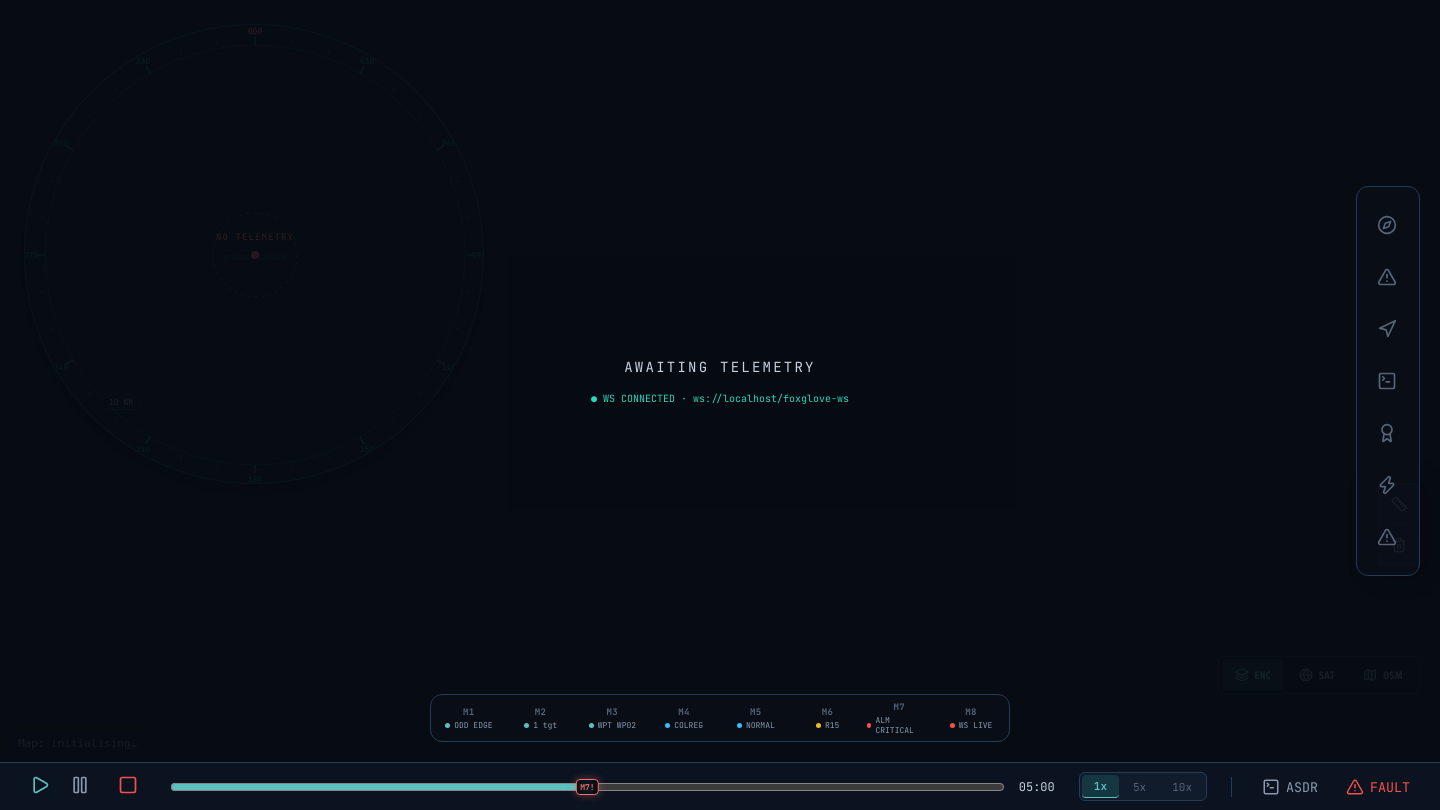
Test: SimulationMonitor › opens bottom module popover from avoidance decision module chips
This screenshot has width=1440, height=810.
Click the button with test id "right-tab-avoid": (1388, 329) [1366,307,1410,351]
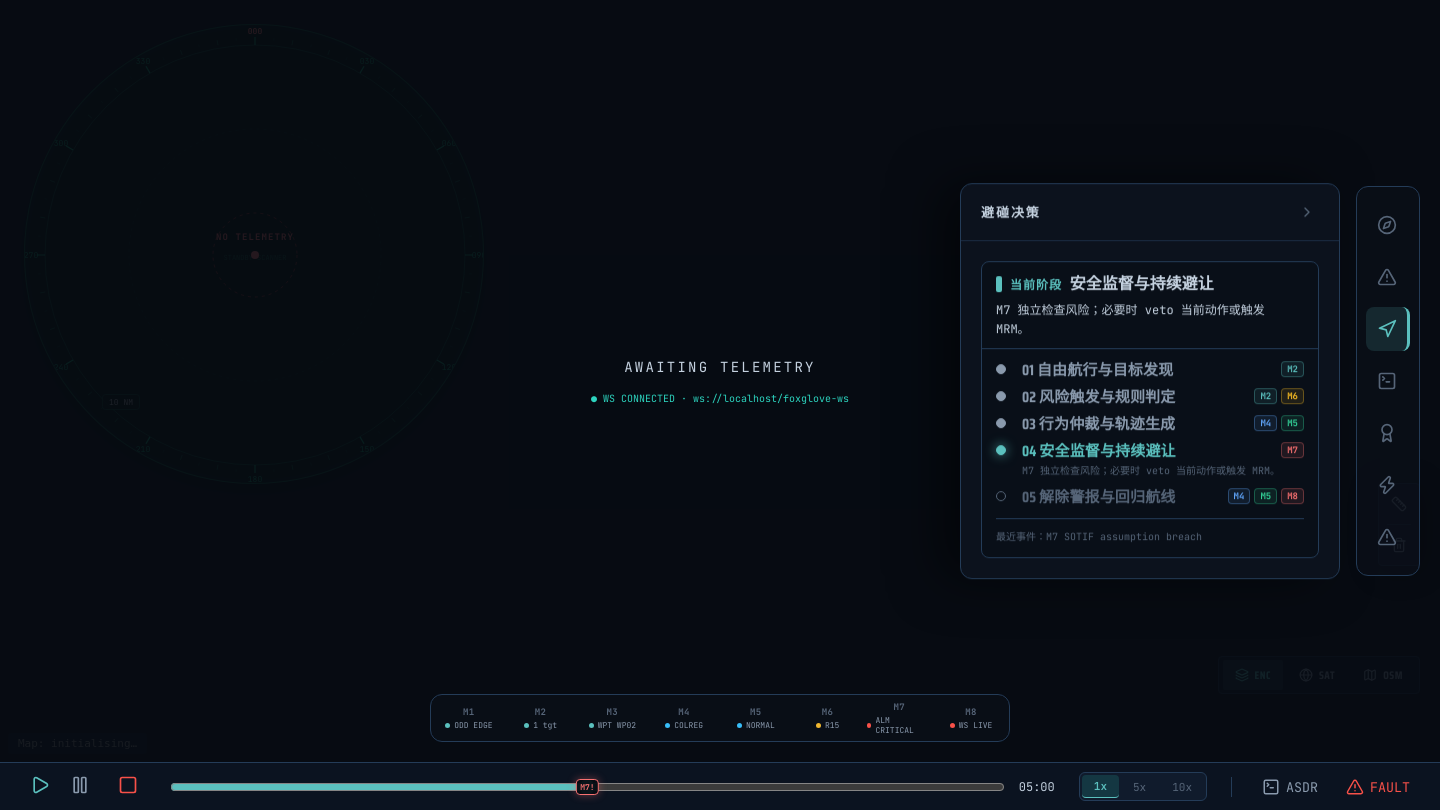
Click the button "M6": (1293, 396) [1281,388,1304,404]
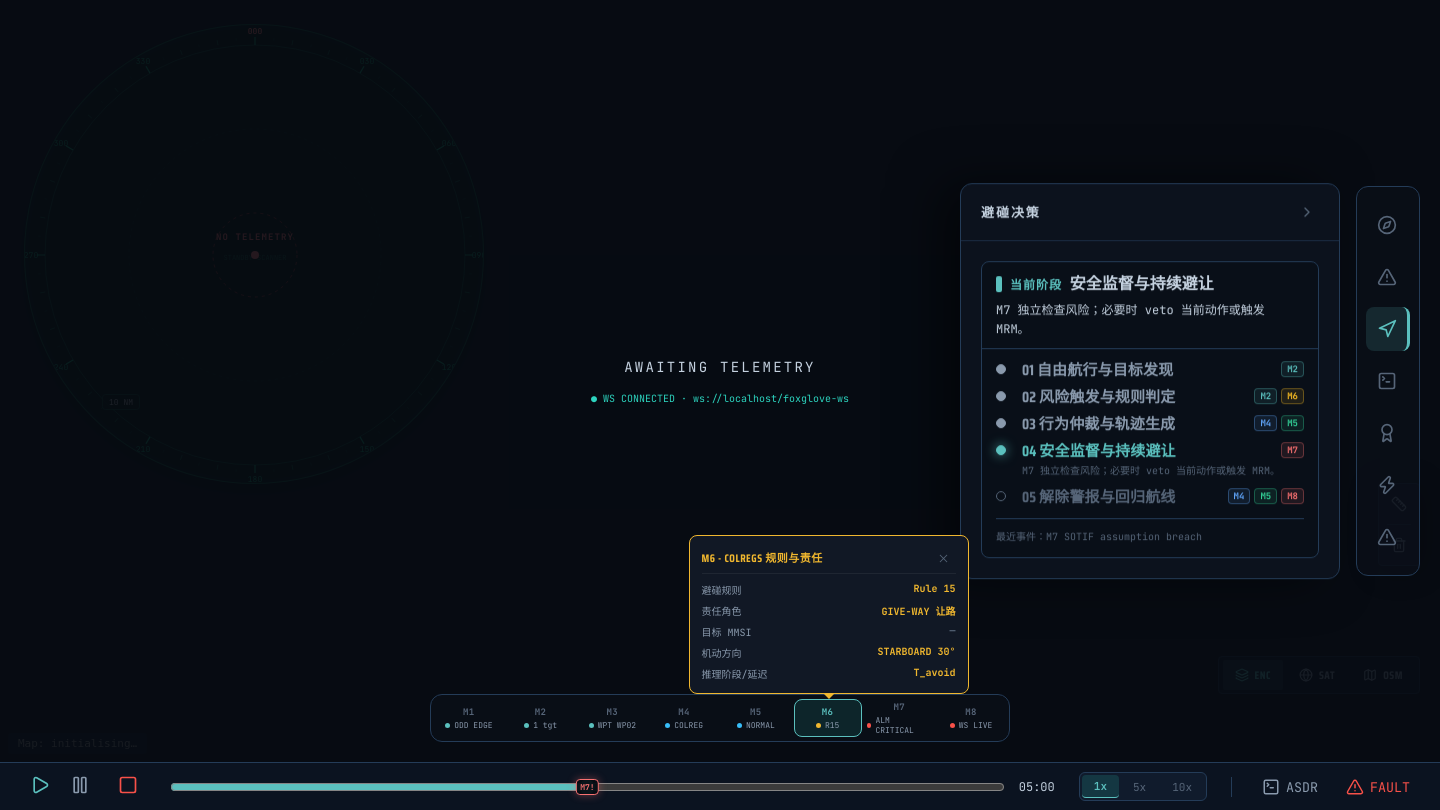
Result: the text "M6 - COLREGs 规则与责任" is shown at [702,548,823,566]
Result: the text "推理阶段/延迟" is shown at [702,666,768,681]
